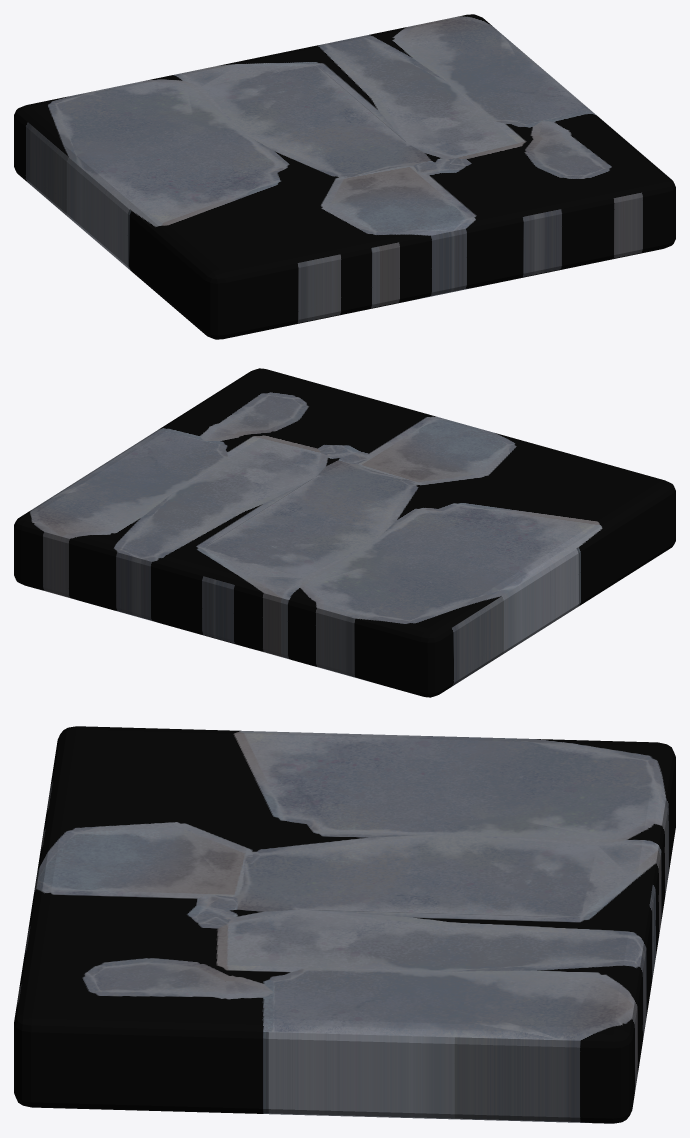
Rendered from fireplce_floor.glb.
3 views of the same model, one above another, from view 1: azimuth 30°, elevation 25°; view 2: azimuth 150°, elevation 25°; view 3: azimuth 270°, elevation 25° (orthographic). The views are drawn at different scales.
Parts seen in each view (by area): view 1: Plane; view 2: Plane; view 3: Plane.
Boxes of the visible parts, <box> form: Plane: <box>14,14,675,339</box>; Plane: <box>14,368,675,697</box>; Plane: <box>14,726,675,1123</box>.
Bounding box in the file's own units: 7.32 × 1.02 × 6.49.
Materials: 1 (1 with a texture image).
